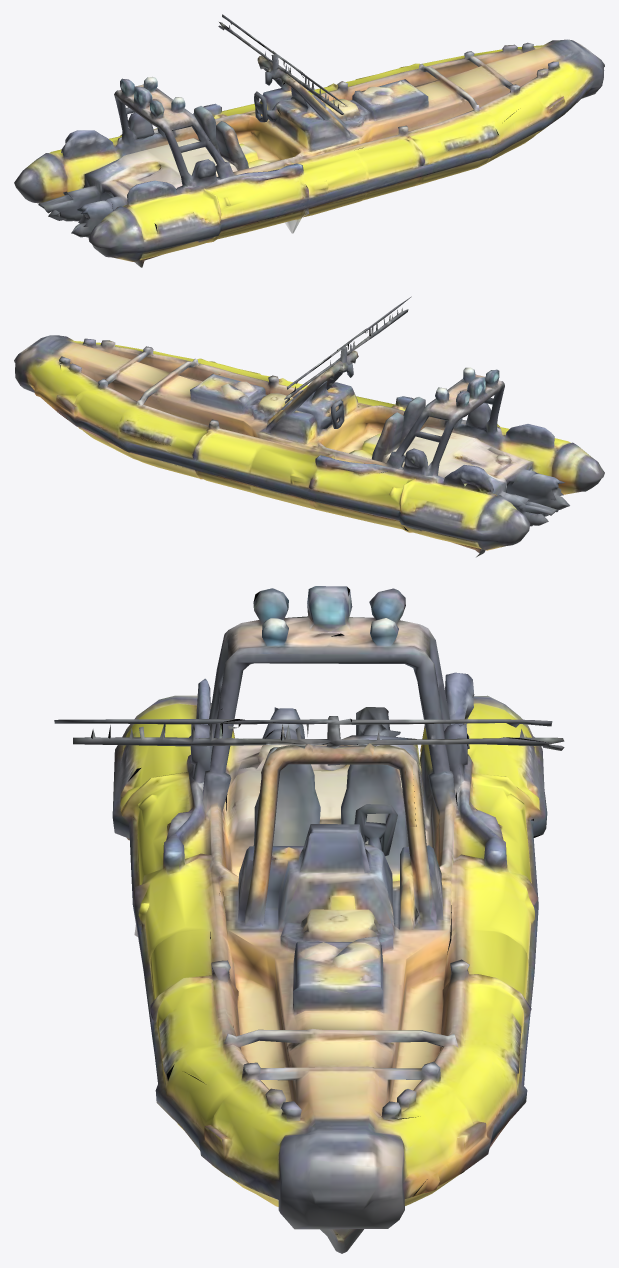
Rendered from rib.glb.
The picture shows the model from 3 angles, top to bottom: view 1: azimuth 30°, elevation 25°; view 2: azimuth 150°, elevation 25°; view 3: azimuth 270°, elevation 25°; orthographic projection. The views are drawn at different scales.
Parts seen in each view (by area): view 1: LOW; view 2: LOW; view 3: LOW.
Part boxes in pixels (x1,y1,x2,y2): LOW: (14, 14, 604, 267); LOW: (14, 296, 604, 557); LOW: (54, 586, 564, 1253).
Bounding box in the file's own units: 0.9998 × 0.2672 × 0.4069.
Materials: 1 (1 with a texture image).
